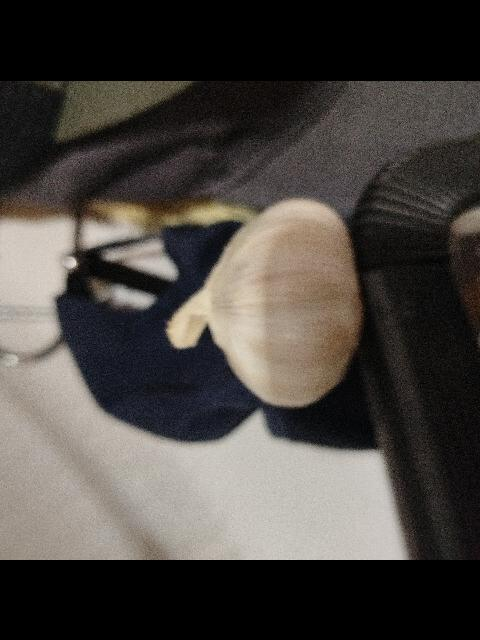garlic: (165, 196, 364, 408)
